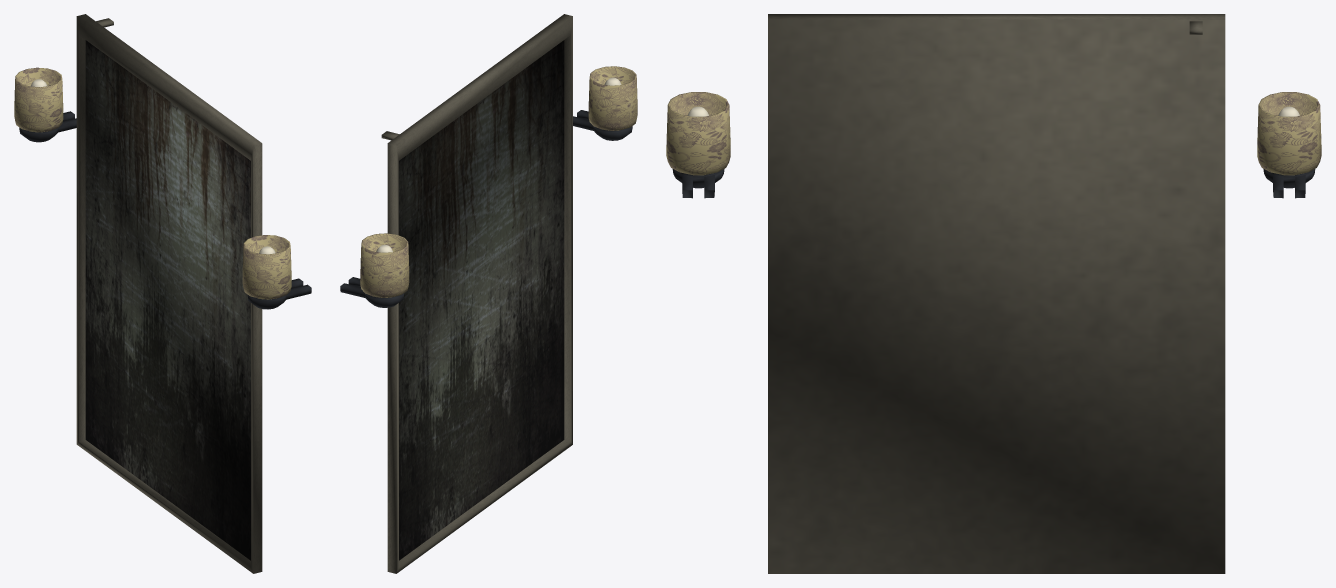
Rendered from FPH_BathMirror.fbx.
The picture shows the model from 3 angles, left to right: view 1: azimuth 30°, elevation 25°; view 2: azimuth 150°, elevation 25°; view 3: azimuth 270°, elevation 25°; orthographic projection. The views are drawn at different scales.
Visible parts, largest first — view 1: FPH_BathMIrror; view 2: FPH_BathMIrror; view 3: FPH_BathMIrror.
Boxes of the visible parts, <box> form: FPH_BathMIrror: <box>14,14,311,573</box>; FPH_BathMIrror: <box>340,14,637,573</box>; FPH_BathMIrror: <box>666,14,1321,573</box>.
Size of the model in its own units: 0.6661 by 4.6 by 4.93.
1 material, 1 textured.
